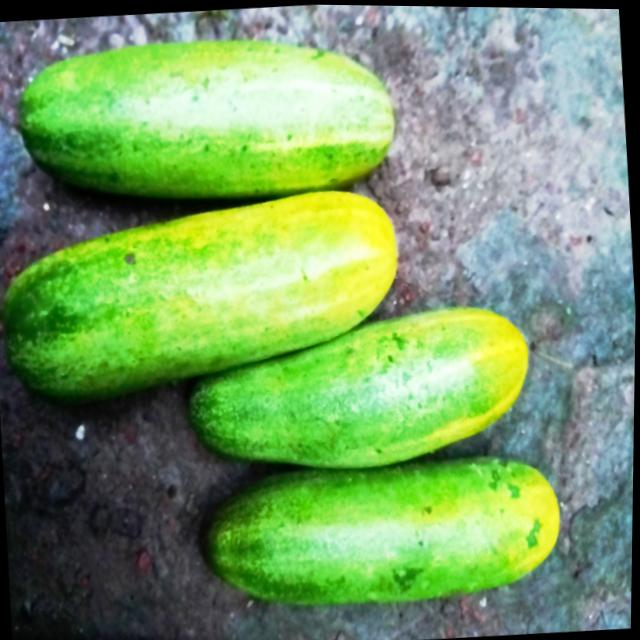Fresh-Cucumber: (0, 177, 410, 408), (10, 19, 402, 214), (180, 294, 540, 485), (198, 441, 568, 618)
